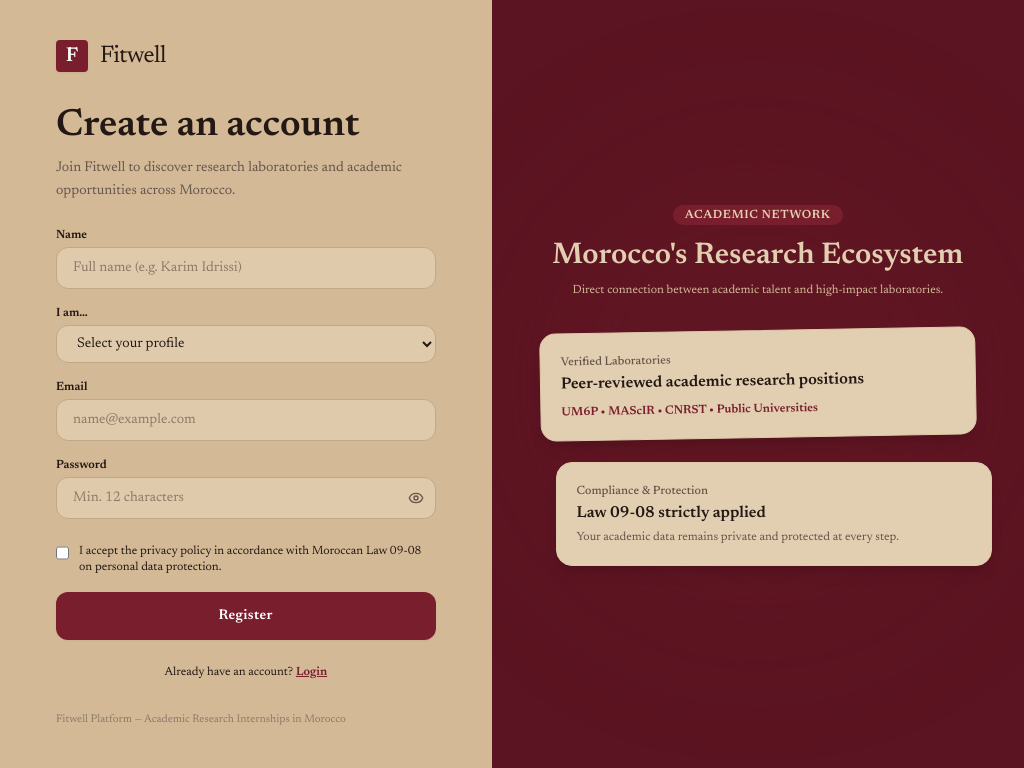
RegisterPage › verifies Lab name and City do NOT appear for Student, but DO appear for HR and CEO
The image size is (1024, 768).
Later steps or results of the test are not shown.
Expected: the field with placeholder "Laboratory or research unit name" is not shown
Expected: the field with placeholder "City (e.g. Rabat" is not shown
Select "Student" in the dropdown labelled "I am…": (246, 344) [56,325,436,363]
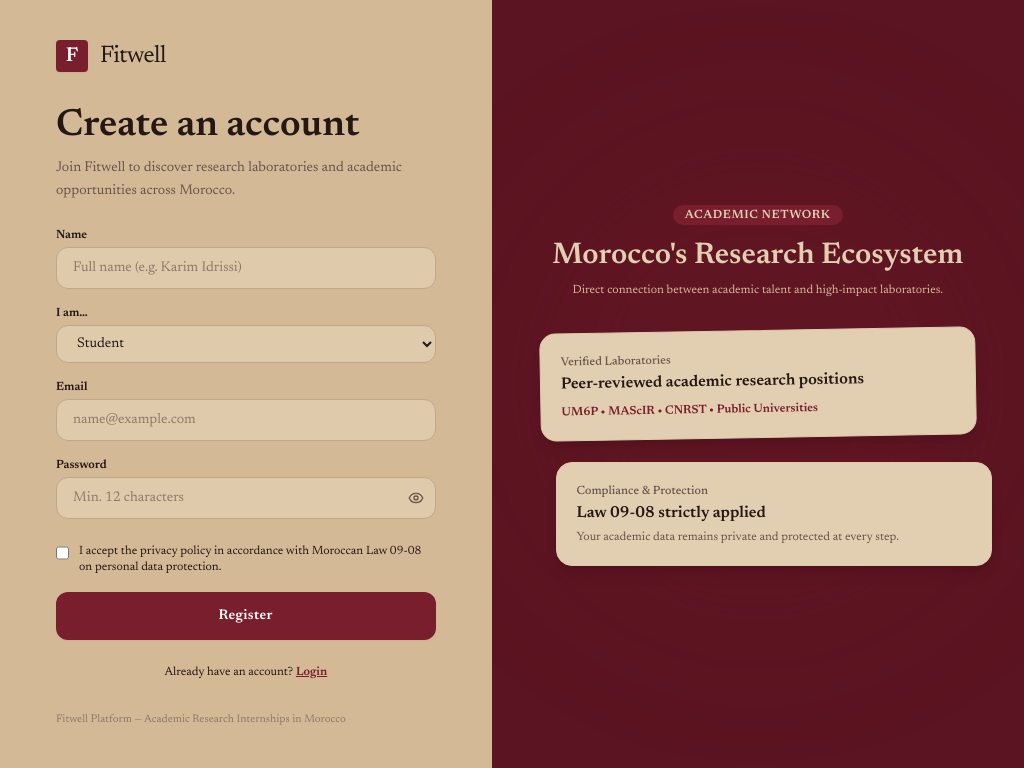
Expected: the field with placeholder "Laboratory or research unit name" is not shown
Expected: the field with placeholder "City (e.g. Rabat" is not shown
Select "HR" in the dropdown labelled "I am…": (246, 344) [56,325,436,363]
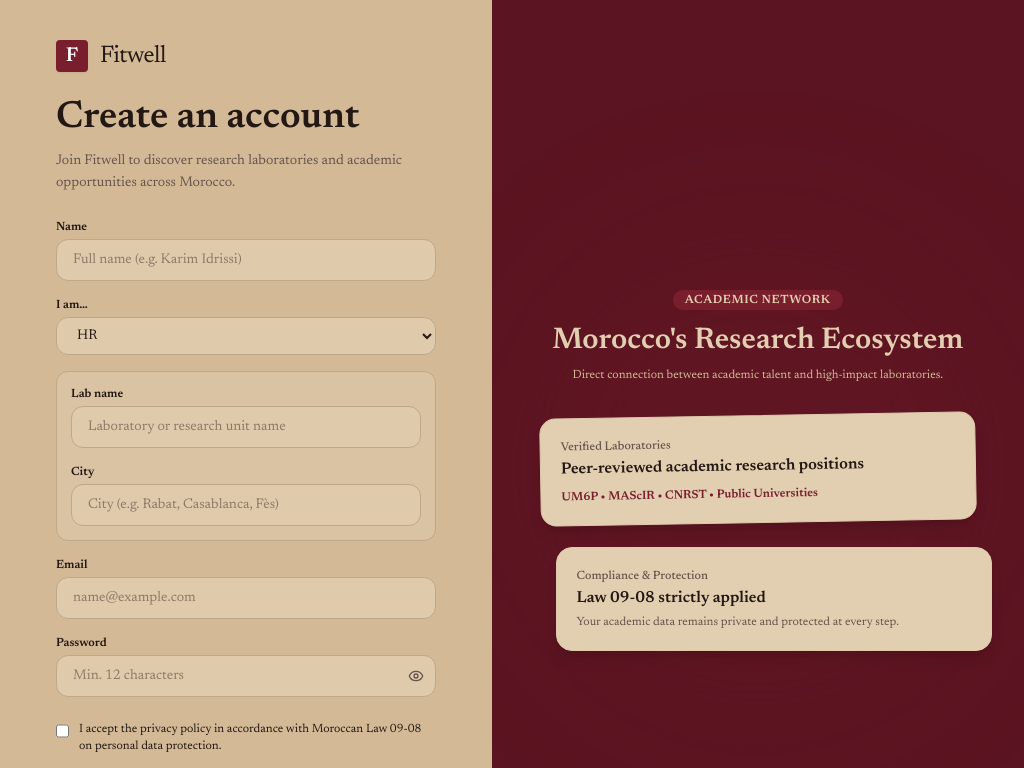
Result: the field with placeholder "Laboratory or research unit name" is shown at [71,406,420,448]
Result: the field with placeholder "City (e.g. Rabat, Casablanca, Fès)" is shown at [71,484,420,526]
Select "CEO / Lab director" in the dropdown labelled "I am…": (246, 336) [56,317,436,355]
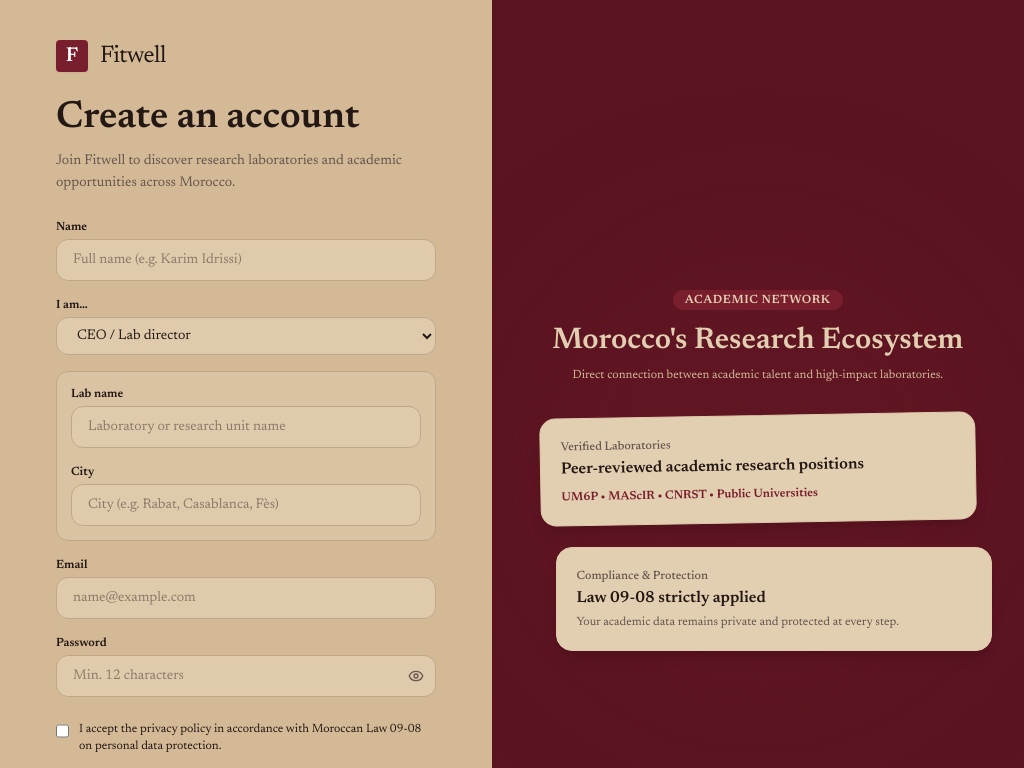
Result: the field with placeholder "Laboratory or research unit name" is shown at [71,406,420,448]
Result: the field with placeholder "City (e.g. Rabat, Casablanca, Fès)" is shown at [71,484,420,526]
